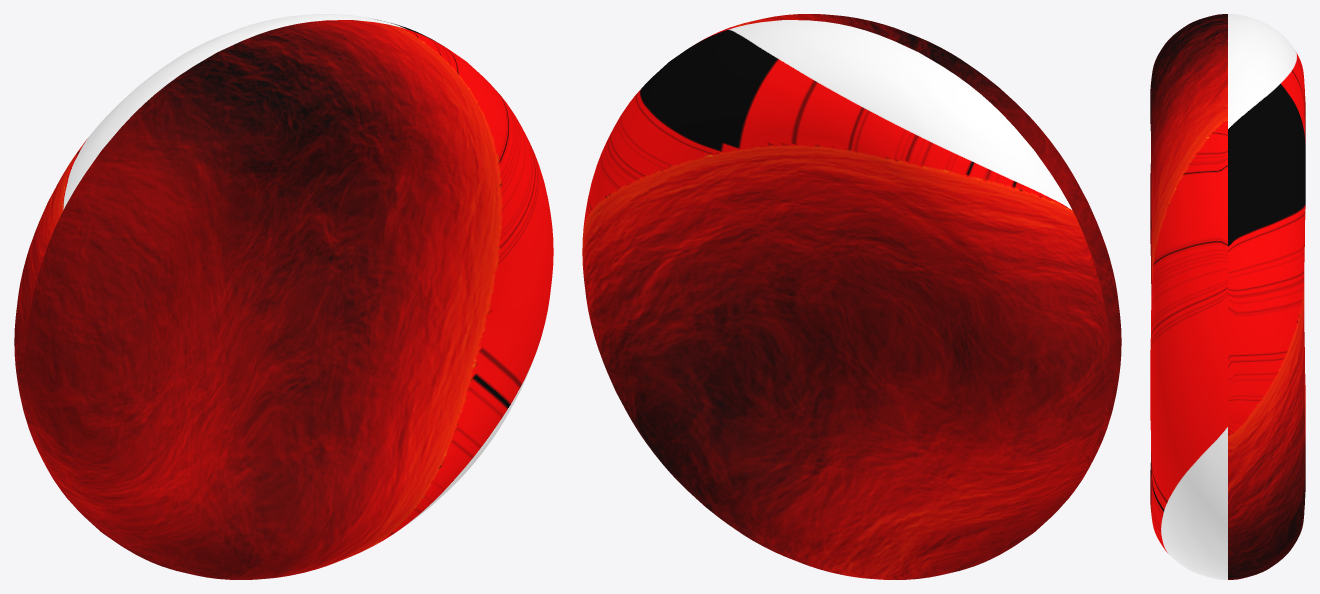
3 views of the same model, side by side, from view 1: azimuth 30°, elevation 25°; view 2: azimuth 150°, elevation 25°; view 3: azimuth 270°, elevation 25° (orthographic). The views are drawn at different scales.
Parts seen in each view (by area): view 1: BloodCell_geometry; view 2: BloodCell_geometry; view 3: BloodCell_geometry.
Boxes of the visible parts, bbox=[...] form: BloodCell_geometry: bbox=[14, 14, 553, 579]; BloodCell_geometry: bbox=[582, 14, 1121, 579]; BloodCell_geometry: bbox=[1150, 14, 1305, 579].
Bounding box in the file's own units: 2.61 × 2.61 × 0.7174.
1 material, 1 textured.
